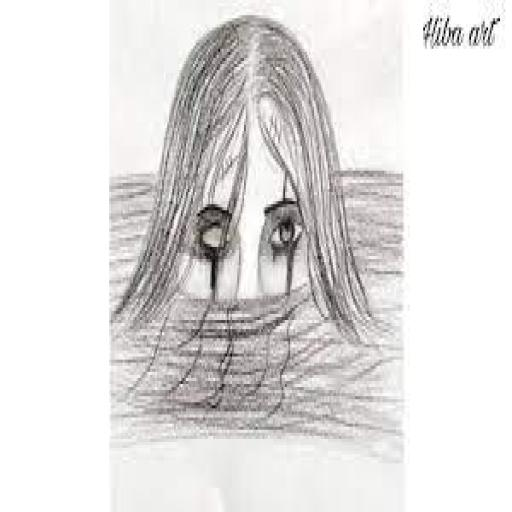person: (120, 2, 382, 354)
